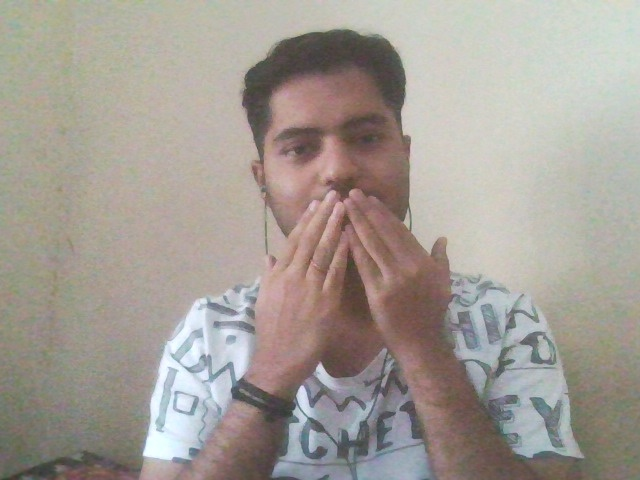Thanks: (188, 187, 507, 387)
